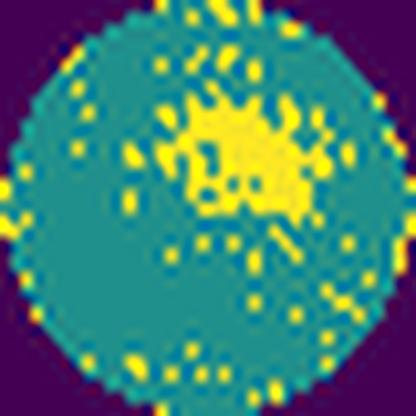Loc: (152, 80, 340, 224)
